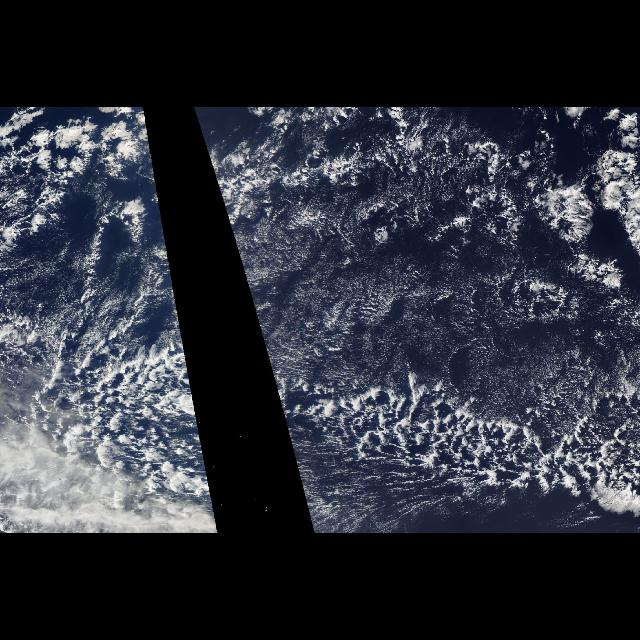Gravel: (261, 344, 637, 528), (3, 344, 219, 528)
Sugar: (207, 150, 635, 406), (7, 150, 183, 332)
